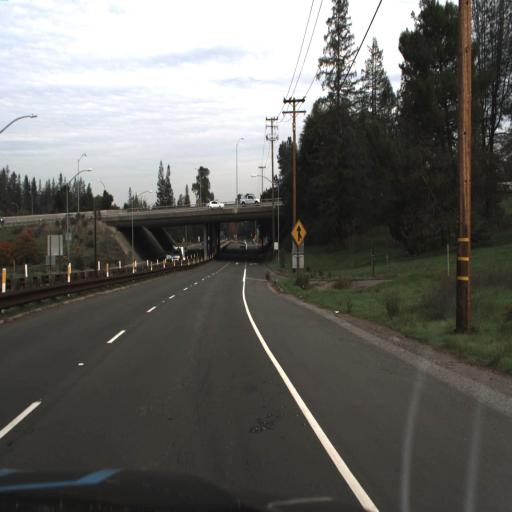car: (61, 208, 83, 225), (204, 196, 226, 212), (165, 244, 183, 263), (241, 194, 260, 207)
